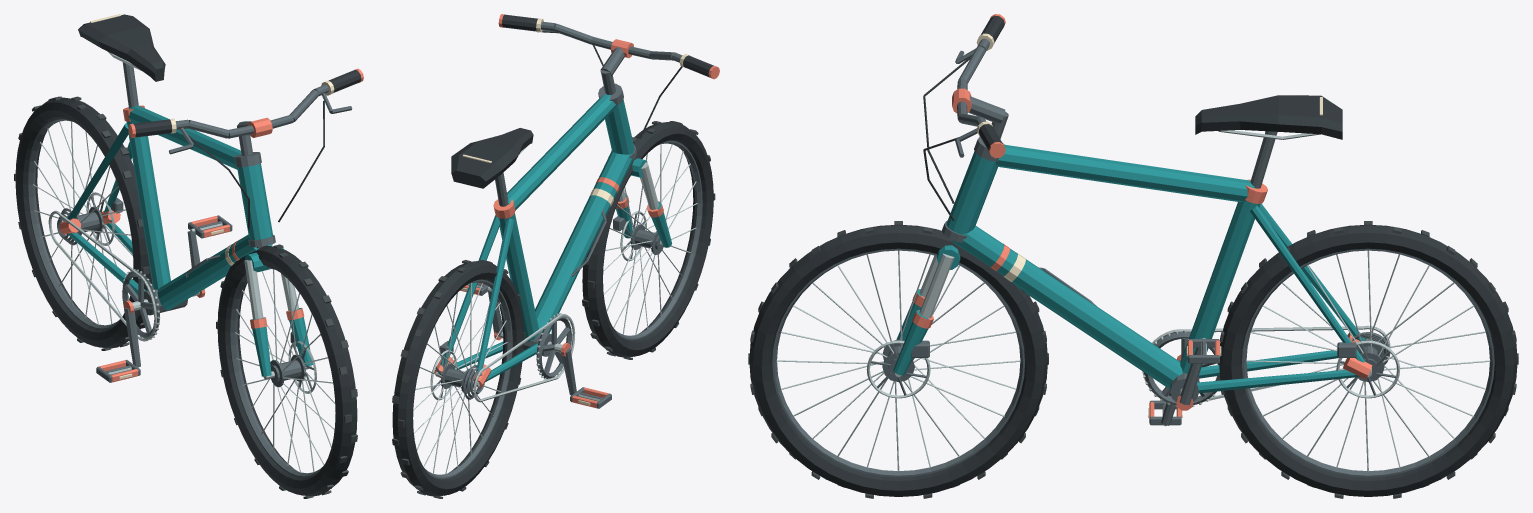
File: Bicycle_Stylized.fbx
3 views of the same model, side by side, from view 1: azimuth 30°, elevation 25°; view 2: azimuth 150°, elevation 25°; view 3: azimuth 270°, elevation 25° (orthographic). The views are drawn at different scales.
Visible parts, largest first — view 1: Front_Wheel, Rear_Wheel, Frame_Assembly, Handlebar_and_Controls, Saddle_Assembly, Front_Fork, Drivetrain_and_Chain, Chainring, Pedal_Right, Pedal_Left, Crank_Right; view 2: Frame_Assembly, Rear_Wheel, Front_Wheel, Handlebar_and_Controls, Saddle_Assembly, Front_Fork, Chainring, Drivetrain_and_Chain, Pedal_Right, Crank_Right; view 3: Rear_Wheel, Front_Wheel, Frame_Assembly, Saddle_Assembly, Handlebar_and_Controls, Front_Fork, Drivetrain_and_Chain, Chainring.
Boxes of the visible parts, x1,y1,x2,y2 form: Front_Wheel: (216, 244, 357, 498); Rear_Wheel: (14, 96, 152, 350); Frame_Assembly: (59, 105, 275, 315); Handlebar_and_Controls: (128, 68, 363, 229); Saddle_Assembly: (78, 14, 165, 108); Front_Fork: (244, 248, 312, 376); Drivetrain_and_Chain: (48, 197, 156, 341); Chainring: (122, 269, 199, 339); Pedal_Right: (96, 360, 140, 382); Pedal_Left: (188, 215, 232, 238); Crank_Right: (123, 300, 140, 367); Frame_Assembly: (434, 83, 637, 387); Rear_Wheel: (392, 260, 525, 498); Front_Wheel: (582, 121, 715, 359); Handlebar_and_Controls: (498, 14, 719, 138); Saddle_Assembly: (451, 128, 533, 206); Front_Fork: (607, 156, 671, 247); Chainring: (499, 313, 572, 379); Drivetrain_and_Chain: (440, 313, 575, 402); Pedal_Right: (570, 387, 611, 408); Crank_Right: (561, 342, 576, 395); Rear_Wheel: (1218, 221, 1518, 498); Front_Wheel: (748, 221, 1048, 498); Frame_Assembly: (942, 136, 1372, 401); Saddle_Assembly: (1195, 95, 1342, 188); Handlebar_and_Controls: (923, 14, 1008, 220); Front_Fork: (893, 245, 960, 375); Drivetrain_and_Chain: (1142, 325, 1390, 401); Chainring: (1143, 330, 1220, 406).
Bounding box in the file's own units: 0.7265 × 1.08 × 1.8.
